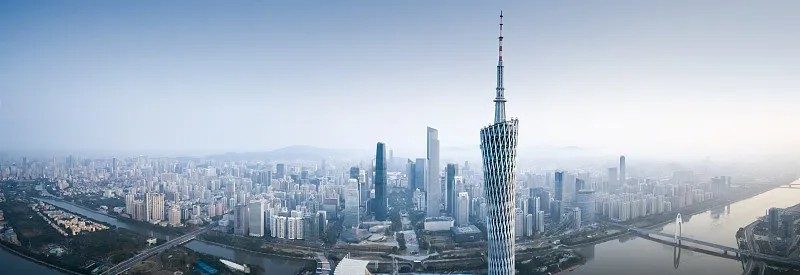Canton: (474, 7, 527, 275)
